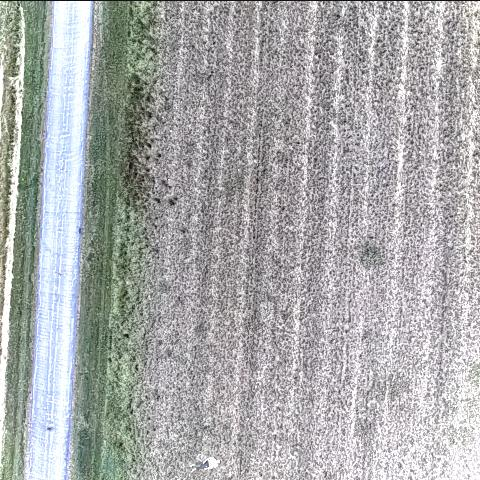person: (184, 453, 224, 474)
